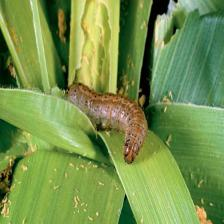Worms: (55, 67, 150, 169)
